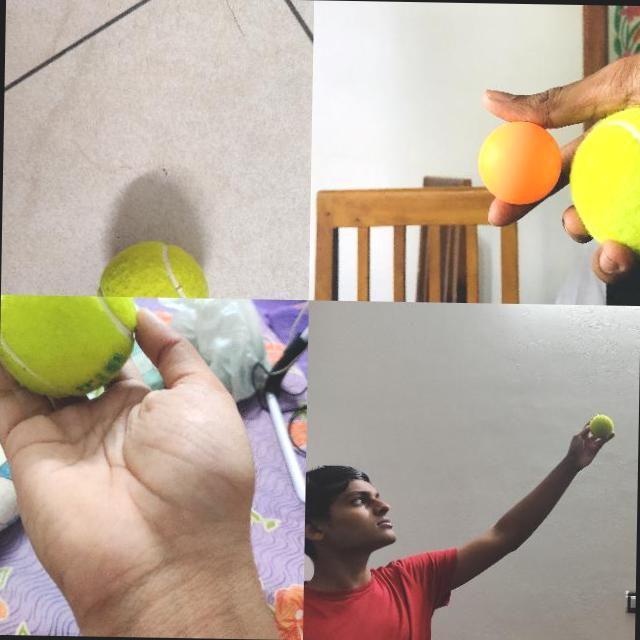Tennis Ball: (0, 294, 137, 399), (567, 105, 640, 259), (96, 238, 212, 297), (588, 414, 613, 438)
